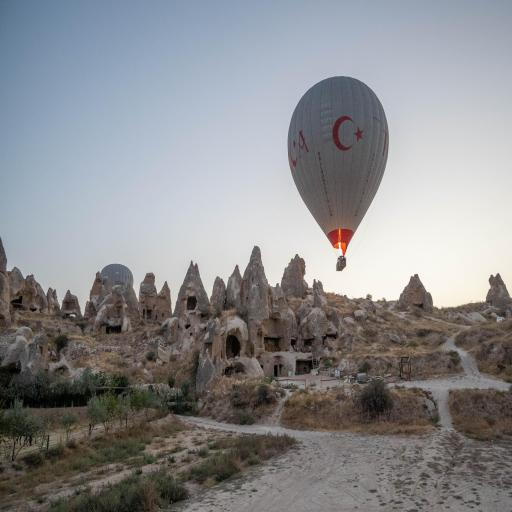hot air ballon: (286, 76, 391, 274)
